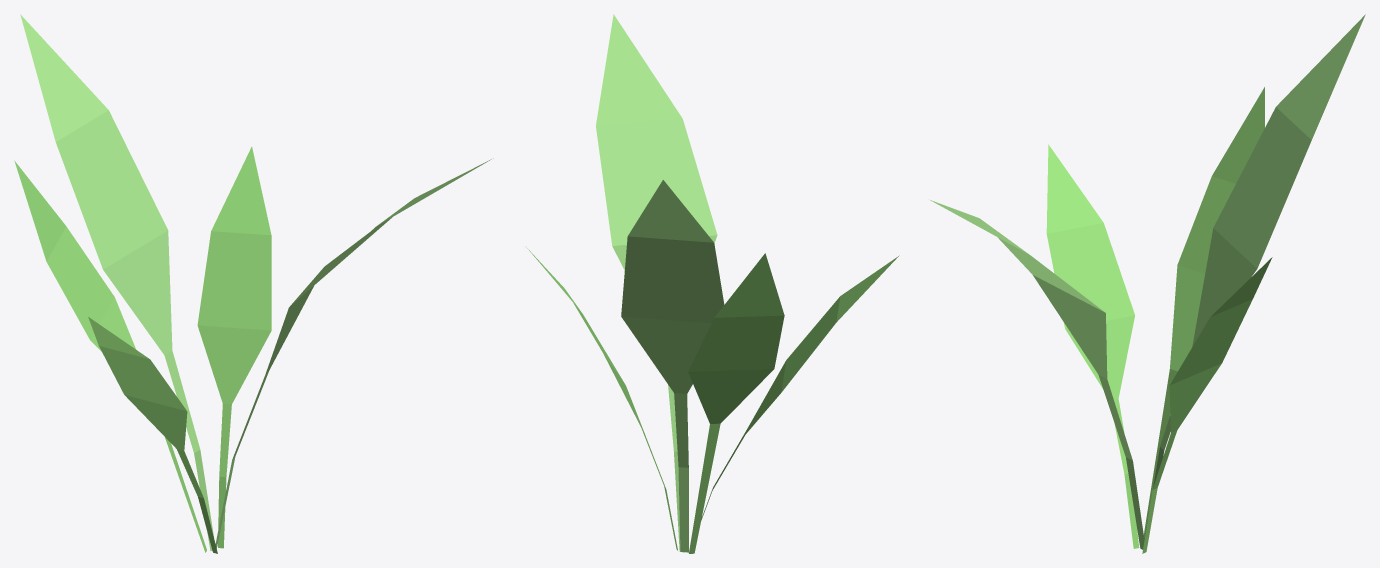
The model's file is Plant_g_OneS_04.fbx.
The picture shows the model from 3 angles, left to right: view 1: azimuth 30°, elevation 25°; view 2: azimuth 150°, elevation 25°; view 3: azimuth 270°, elevation 25°; orthographic projection. The views are drawn at different scales.
Visible parts, largest first — view 1: Plant_g_OneS_04; view 2: Plant_g_OneS_04; view 3: Plant_g_OneS_04.
Part boxes in pixels (x1=…): Plant_g_OneS_04: x1=14, y1=14, x2=493, y2=553; Plant_g_OneS_04: x1=525, y1=14, x2=899, y2=553; Plant_g_OneS_04: x1=930, y1=14, x2=1365, y2=553.
Size of the model in its own units: 41.41 by 54.19 by 43.65.
